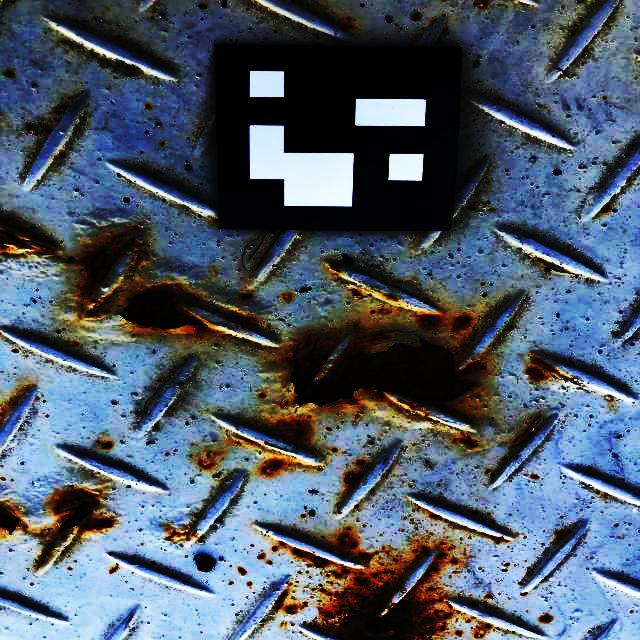Corrosion: (280, 526, 454, 640), (290, 331, 476, 432), (111, 285, 206, 335), (83, 236, 130, 295), (52, 495, 114, 538), (0, 226, 56, 258), (0, 510, 23, 536)
